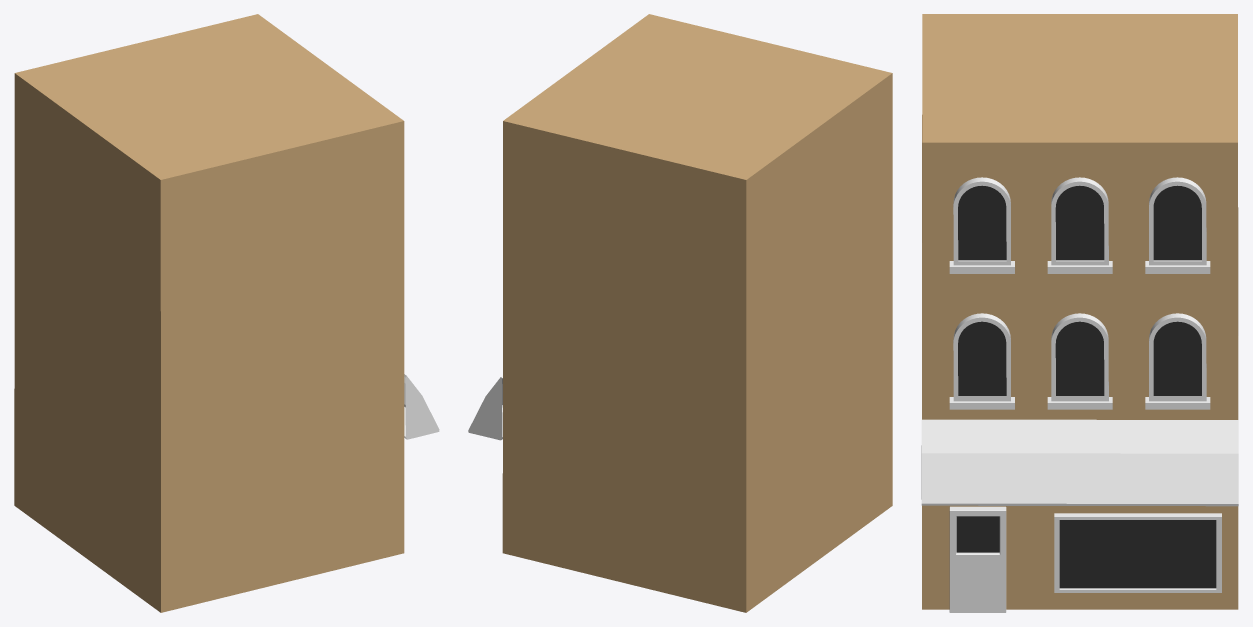
3 views of the same model, side by side, from view 1: azimuth 30°, elevation 25°; view 2: azimuth 150°, elevation 25°; view 3: azimuth 270°, elevation 25° (orthographic). The views are drawn at different scales.
Parts seen in each view (by area): view 1: BusinessBuildings.082; view 2: BusinessBuildings.082; view 3: BusinessBuildings.082.
Boxes of the visible parts, <box> form: BusinessBuildings.082: <box>14,14,439,612</box>; BusinessBuildings.082: <box>468,14,892,612</box>; BusinessBuildings.082: <box>921,14,1238,612</box>.
Bounding box in the file's own units: 90.89 × 135 × 83.01.
